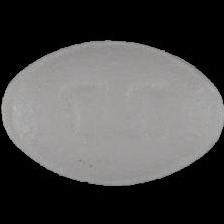0007-4139: (0, 0, 224, 224)
